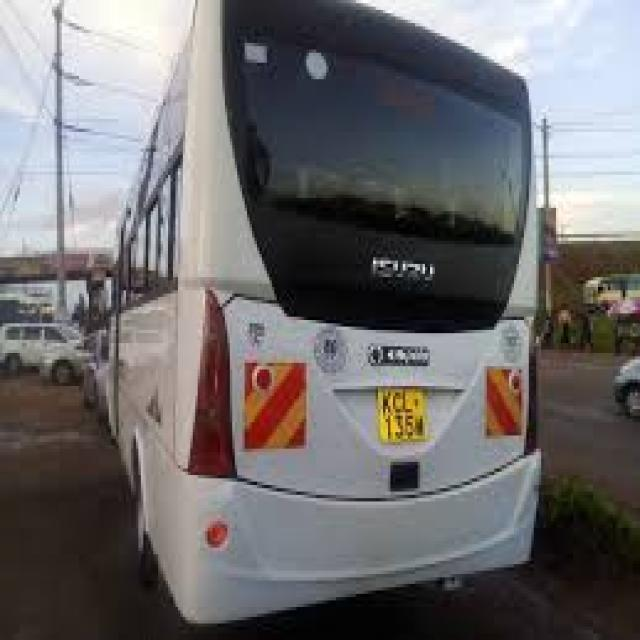bus: (54, 0, 614, 637)
